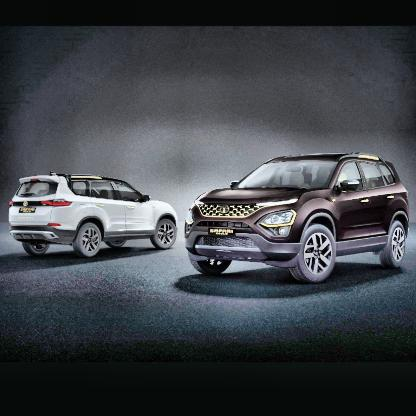TATA Safari: (208, 228, 236, 238), (19, 207, 37, 213)
